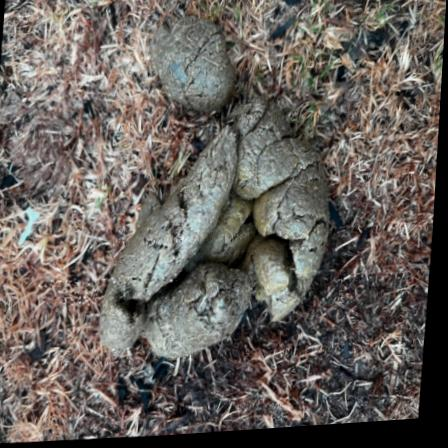dog-poop: (97, 12, 349, 374)
